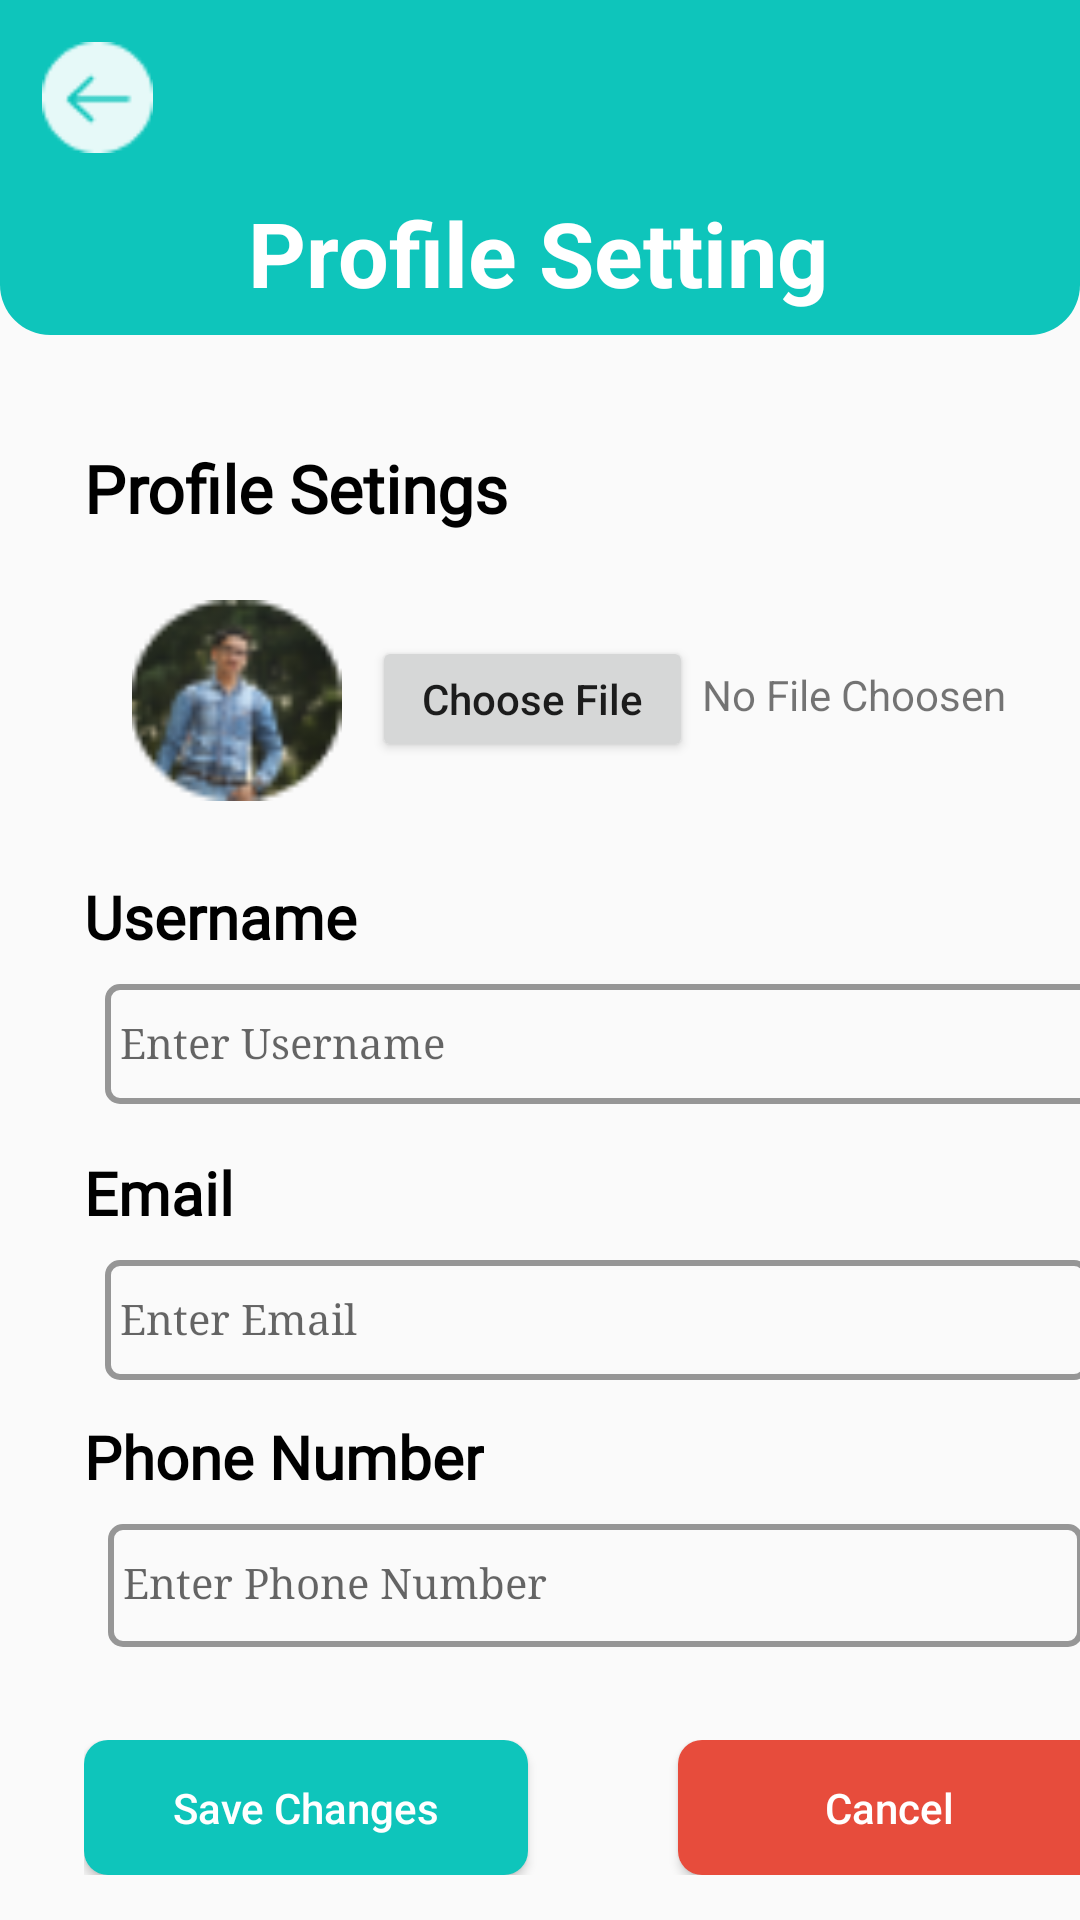

Locate icon controls on the screen. Image size 1080x1920, boxes as [x1=x1, y1=y1, x2=x2, y2=y2].
bakbtn: [x1=42, y1=42, x2=153, y2=153]
